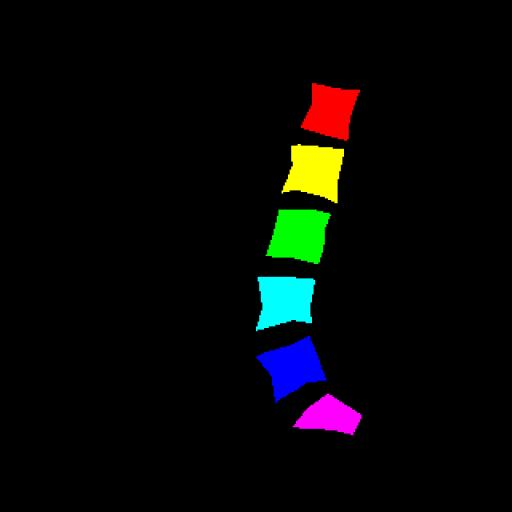L1: (301, 83, 360, 140)
L2: (282, 146, 344, 202)
L3: (266, 210, 330, 264)
L4: (258, 277, 315, 330)
L5: (257, 336, 326, 402)
S1: (293, 394, 361, 434)
